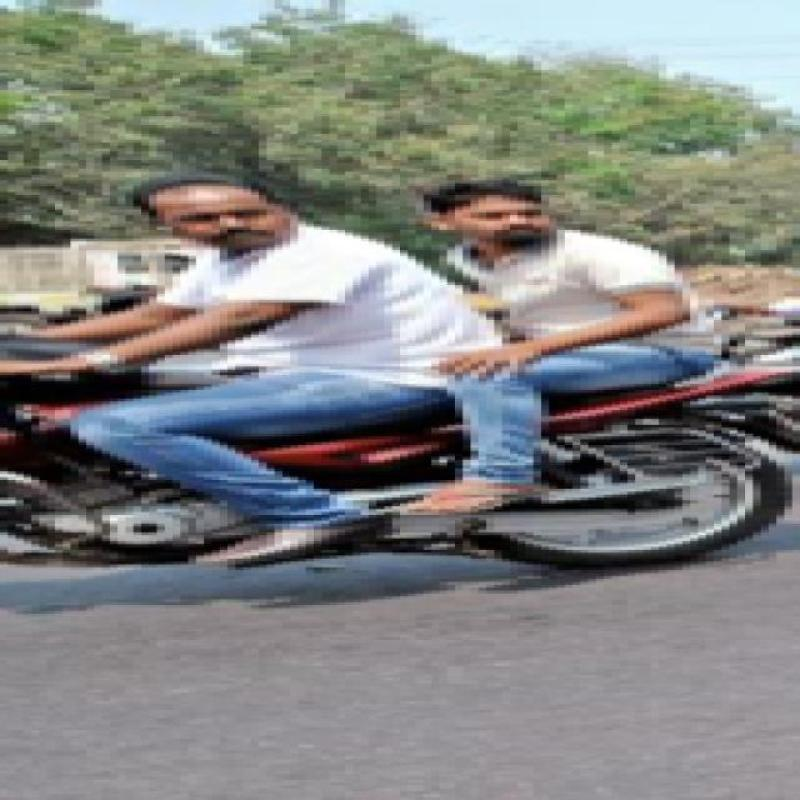nohelmet: (121, 164, 307, 266), (422, 164, 559, 266)
